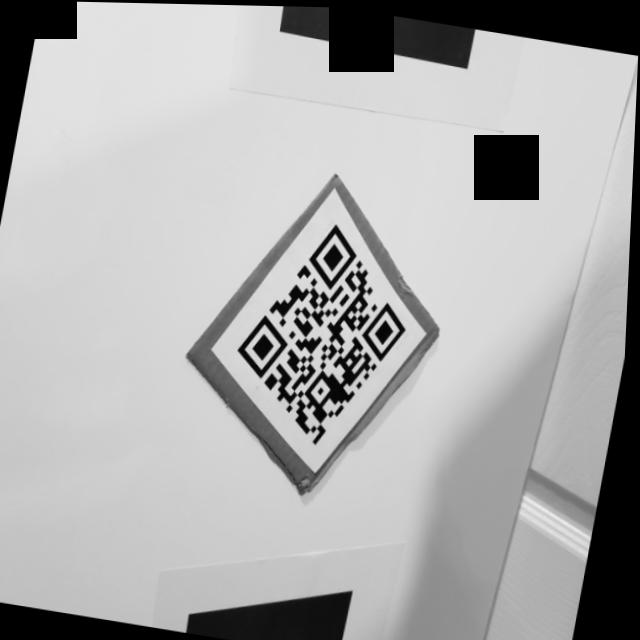QR_CODE: (217, 202, 438, 474)
